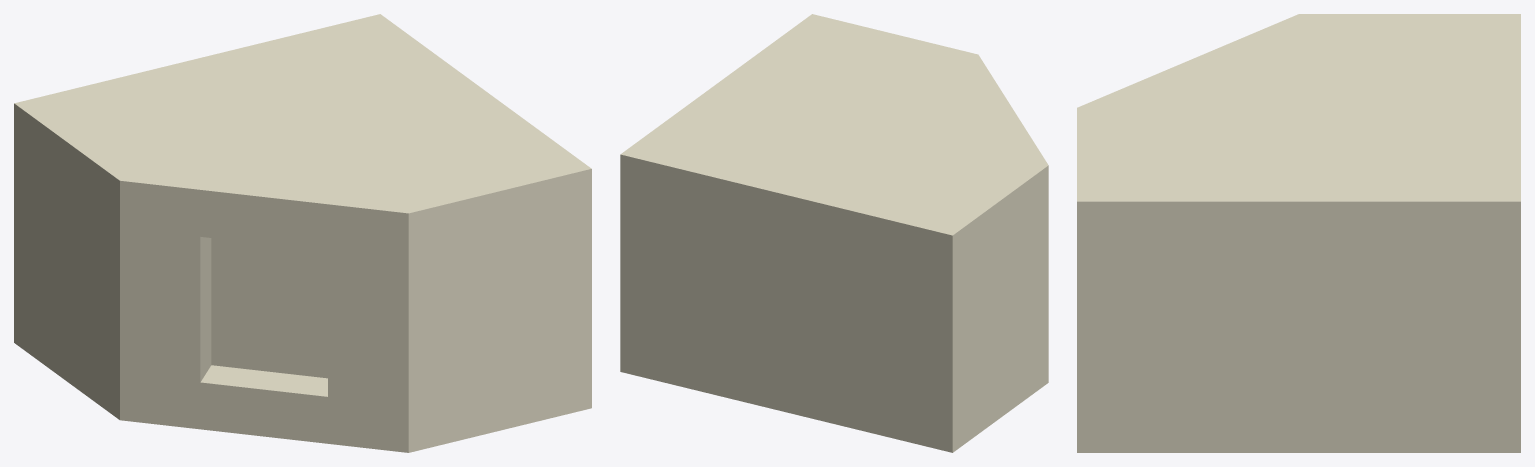
File: modularbuildings_050.glb
The picture shows the model from 3 angles, left to right: view 1: azimuth 30°, elevation 25°; view 2: azimuth 150°, elevation 25°; view 3: azimuth 270°, elevation 25°; orthographic projection. The views are drawn at different scales.
Parts seen in each view (by area): view 1: Mesh1 Group1 Model; view 2: Mesh1 Group1 Model; view 3: Mesh1 Group1 Model.
Boxes of the visible parts, <box> form: Mesh1 Group1 Model: <box>14,14,591,452</box>; Mesh1 Group1 Model: <box>620,14,1048,452</box>; Mesh1 Group1 Model: <box>1077,14,1520,452</box>.
Size of the model in its own units: 1 by 0.625 by 1.
